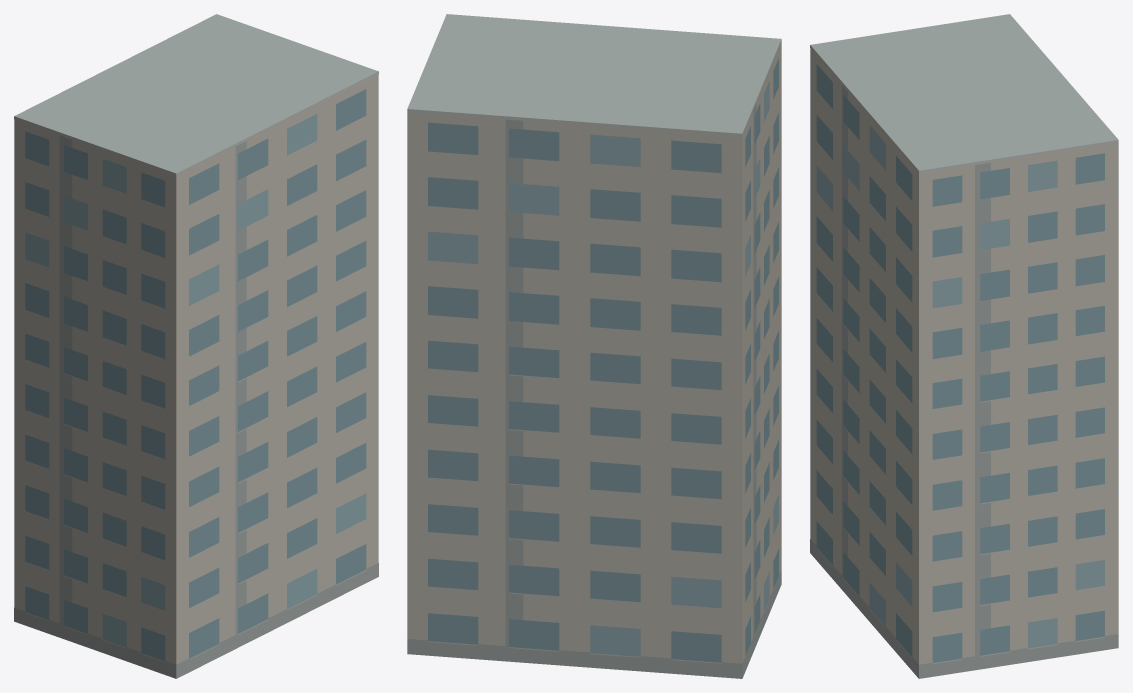
Rendered from residential-8f6f7cd7-7fd5-4604-a55a-7edd68eee807.glb.
3 renders of one model, left to right at view 1: azimuth 30°, elevation 25°; view 2: azimuth 150°, elevation 25°; view 3: azimuth 270°, elevation 25°, orthographic. The views are drawn at different scales.
Visible parts, largest first — view 1: residential-8f6f7cd7-7fd5-4604-a55a-7edd68eee807.tmp; view 2: residential-8f6f7cd7-7fd5-4604-a55a-7edd68eee807.tmp; view 3: residential-8f6f7cd7-7fd5-4604-a55a-7edd68eee807.tmp.
Boxes of the visible parts, <box> form: residential-8f6f7cd7-7fd5-4604-a55a-7edd68eee807.tmp: <box>14,14,378,678</box>; residential-8f6f7cd7-7fd5-4604-a55a-7edd68eee807.tmp: <box>407,14,781,678</box>; residential-8f6f7cd7-7fd5-4604-a55a-7edd68eee807.tmp: <box>810,14,1118,678</box>.
Size of the model in its own units: 26.47 by 40 by 22.02.
